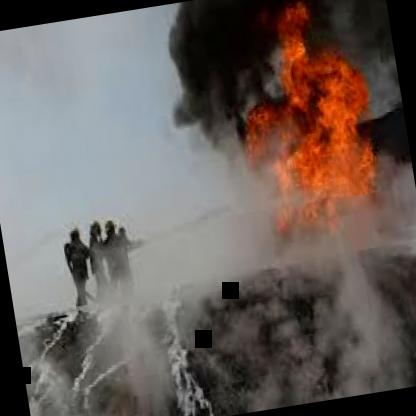fire: (171, 0, 416, 271)
